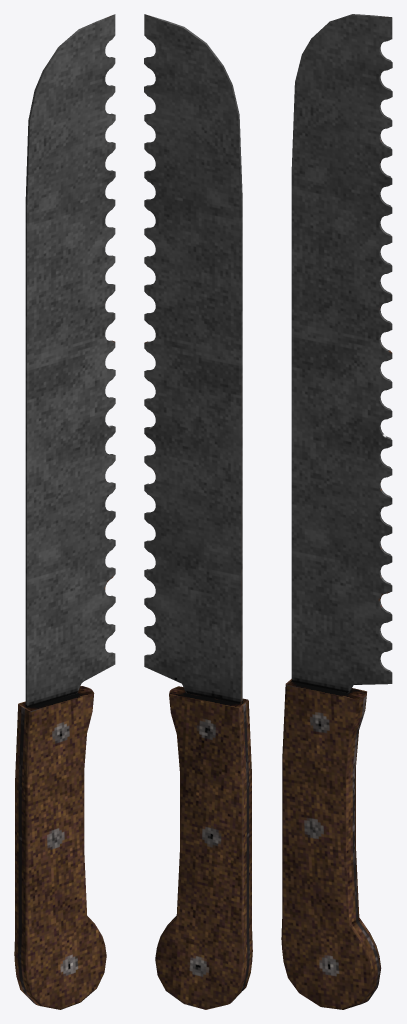
File: knife_003.glb
3 renders of one model, left to right at view 1: azimuth 30°, elevation 25°; view 2: azimuth 150°, elevation 25°; view 3: azimuth 330°, elevation 25°, orthographic. The views are drawn at different scales.
Visible parts, largest first — view 1: Cube.026; view 2: Cube.026; view 3: Cube.026.
Part boxes in pixels (x1,y1,x2,y2): Cube.026: (14, 14, 115, 1009); Cube.026: (144, 14, 252, 1009); Cube.026: (281, 14, 392, 1009).
Bounding box in the file's own units: 0.1059 × 0.9826 × 0.0269.
Materials: 1 (1 with a texture image).
